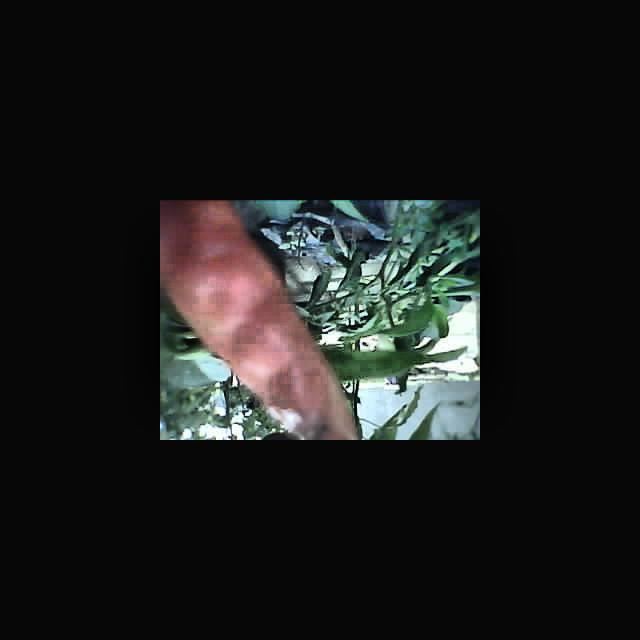Cabai: (160, 205, 352, 440)
